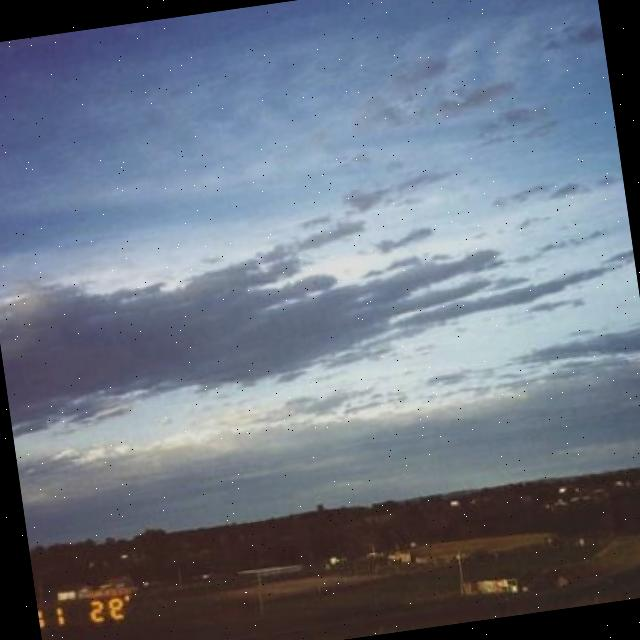Cc: (1, 1, 640, 478)
